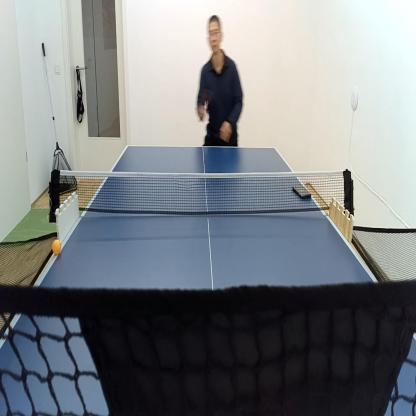Ball: (52, 239, 62, 255)
